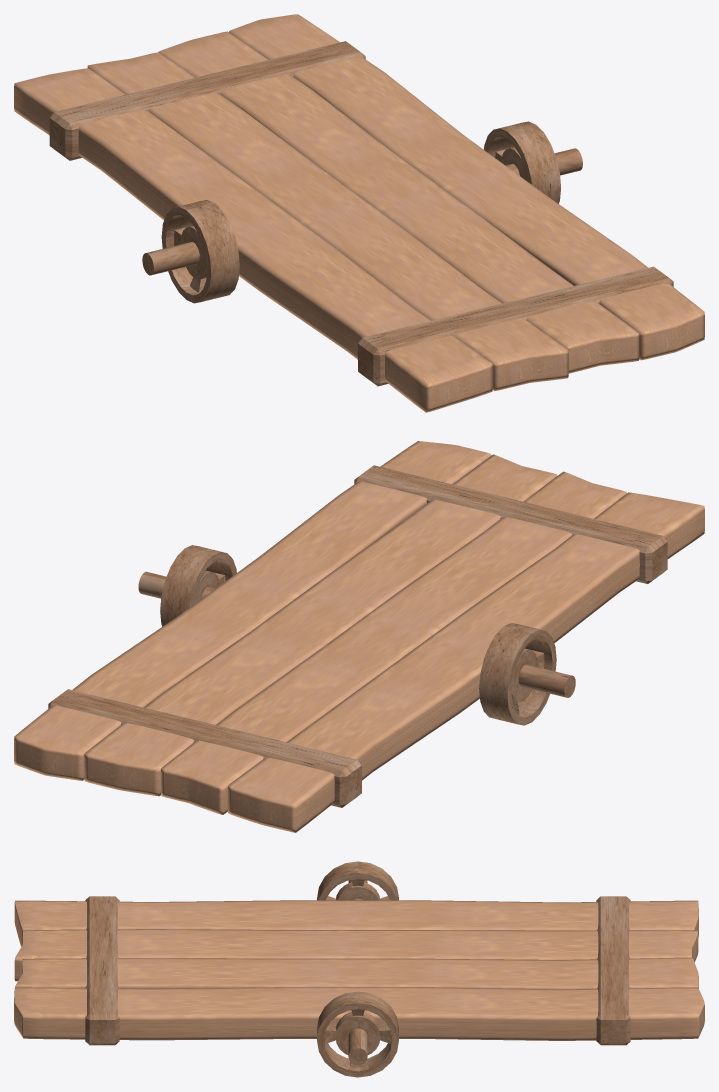
File: Seesaw.fbx
The picture shows the model from 3 angles, top to bottom: view 1: azimuth 30°, elevation 25°; view 2: azimuth 150°, elevation 25°; view 3: azimuth 270°, elevation 25°; orthographic projection. The views are drawn at different scales.
Parts seen in each view (by area): view 1: Seesaw2; view 2: Seesaw2; view 3: Seesaw2.
Part boxes in pixels (x1,y1,x2,y2): Seesaw2: (14,14,704,412); Seesaw2: (14,441,704,832); Seesaw2: (14,861,704,1077).
Bounding box in the file's own units: 600 × 120 × 1009.
1 material, 1 textured.
